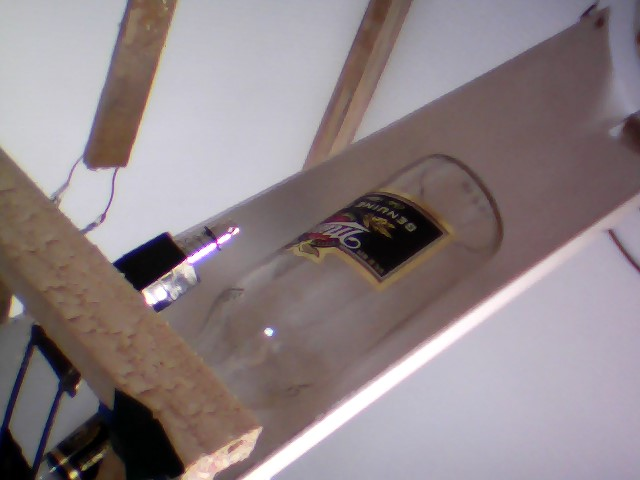vidrio: (176, 148, 518, 411)
